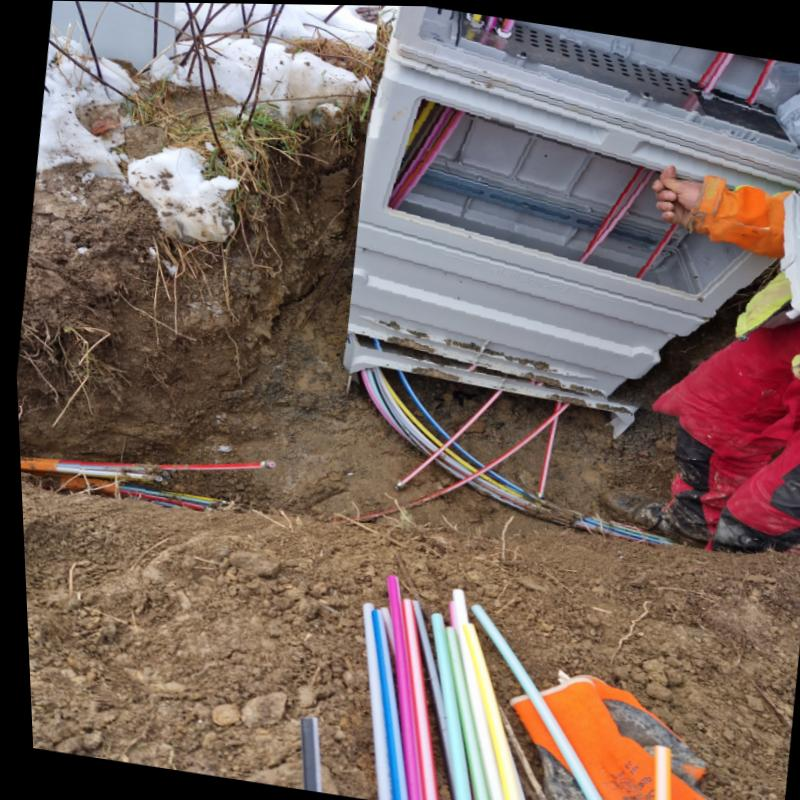NT-Gehause: (343, 5, 800, 402)
Orang-Speednetrohrchen: (16, 458, 174, 502)
